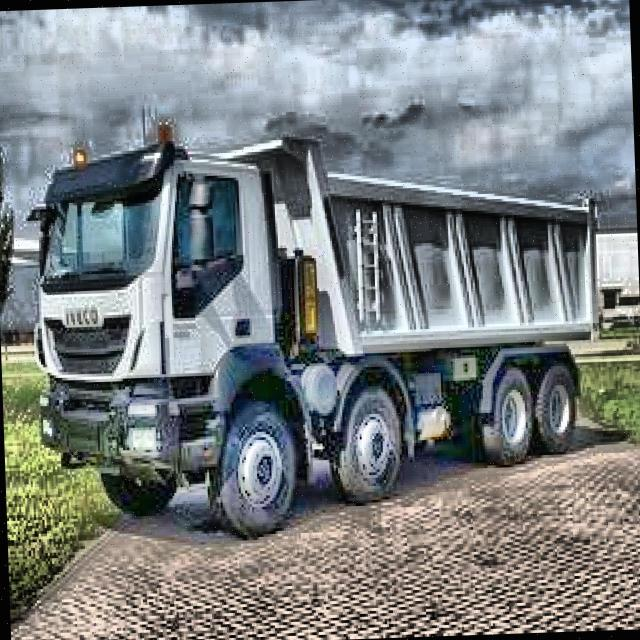dump_truck: (2, 97, 617, 550)
